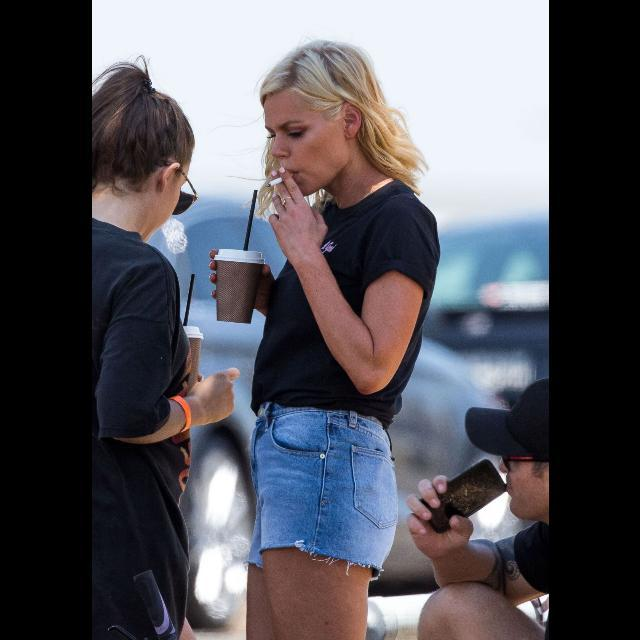rokok: (264, 174, 288, 188)
